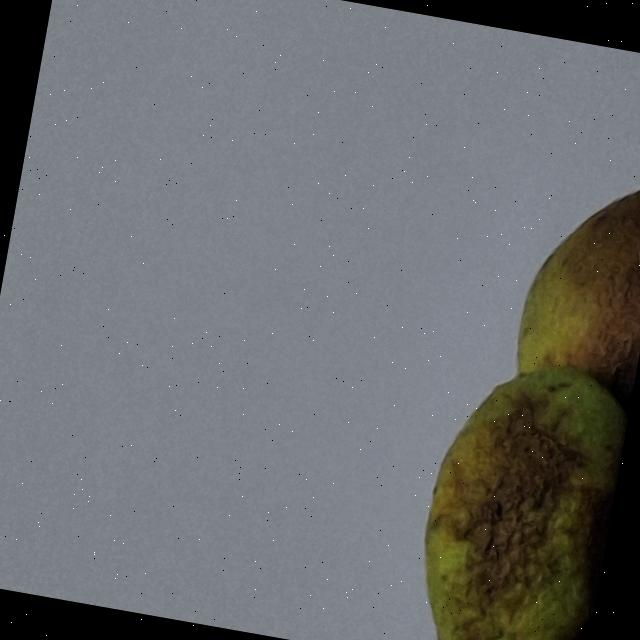mangosteen: (373, 43, 640, 640)
